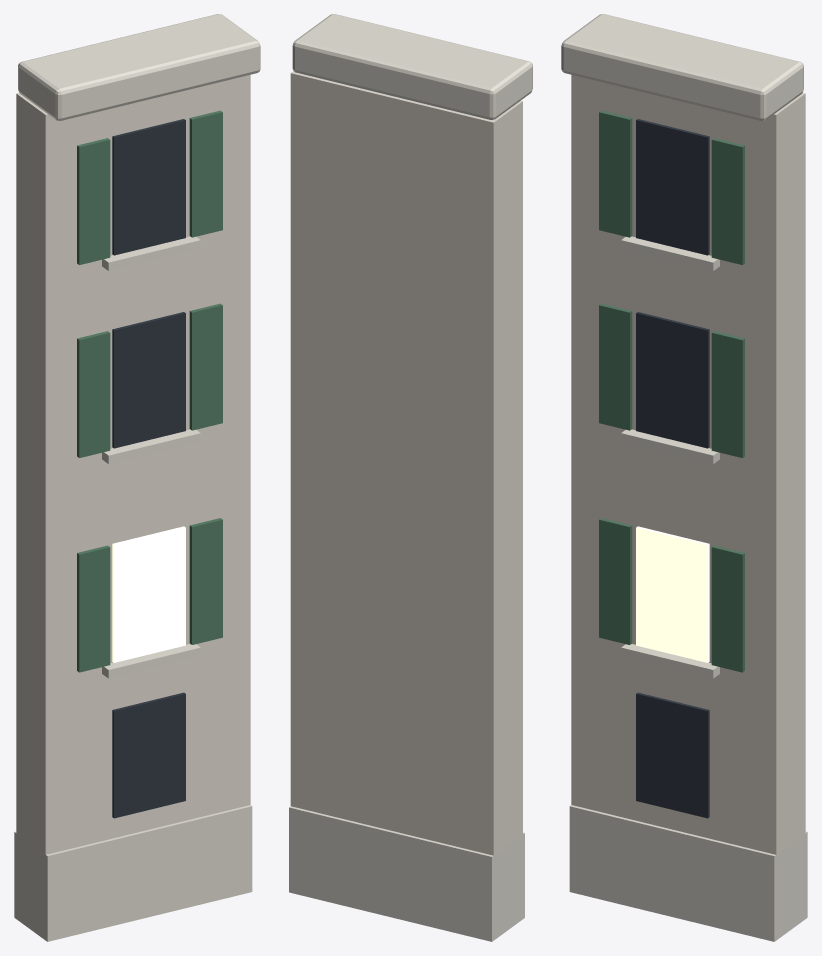
Rendered from FacadeWhite.glb.
3 views of the same model, side by side, from view 1: azimuth 30°, elevation 25°; view 2: azimuth 150°, elevation 25°; view 3: azimuth 330°, elevation 25° (orthographic).
Visible parts, largest first — view 1: FacadeWhite; view 2: FacadeWhite; view 3: FacadeWhite.
Part boxes in pixels (x1,y1,x2,y2): FacadeWhite: [14, 14, 260, 941]; FacadeWhite: [289, 14, 532, 941]; FacadeWhite: [561, 14, 807, 941].
Size of the model in its own units: 2 by 8 by 0.73.
